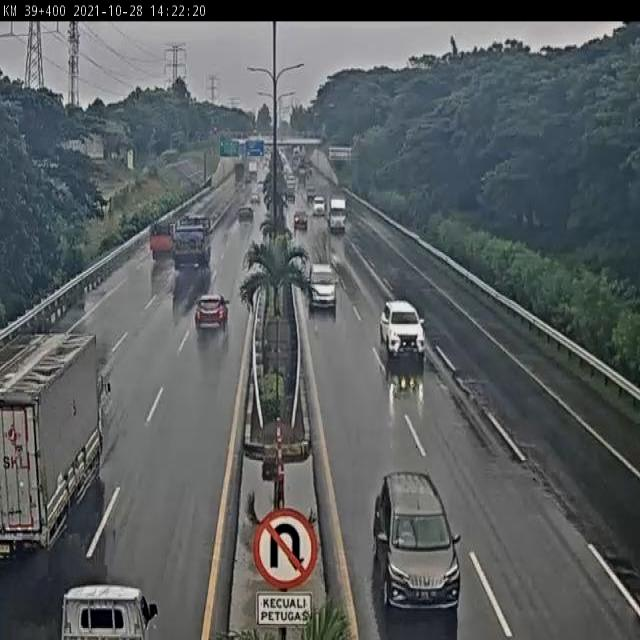Car: (374, 471, 465, 624), (380, 304, 430, 358), (193, 295, 231, 333), (283, 176, 300, 201), (236, 206, 254, 226), (314, 195, 326, 219), (294, 212, 308, 230)
Truck: (0, 318, 109, 560), (55, 572, 171, 640), (172, 216, 213, 273), (148, 222, 173, 260), (329, 194, 349, 233), (235, 163, 245, 189), (248, 160, 258, 182), (306, 186, 316, 204)
Van: (309, 261, 336, 315)
